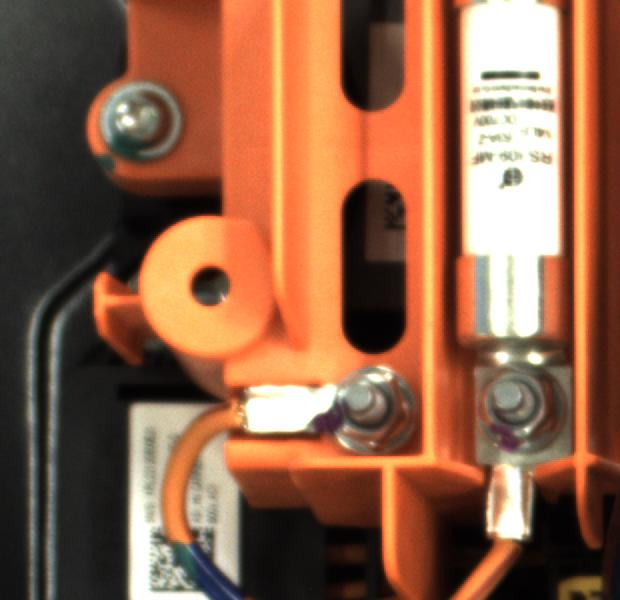screw_m: (92, 75, 203, 173)
screw_s: (472, 362, 572, 453), (324, 360, 412, 449)
